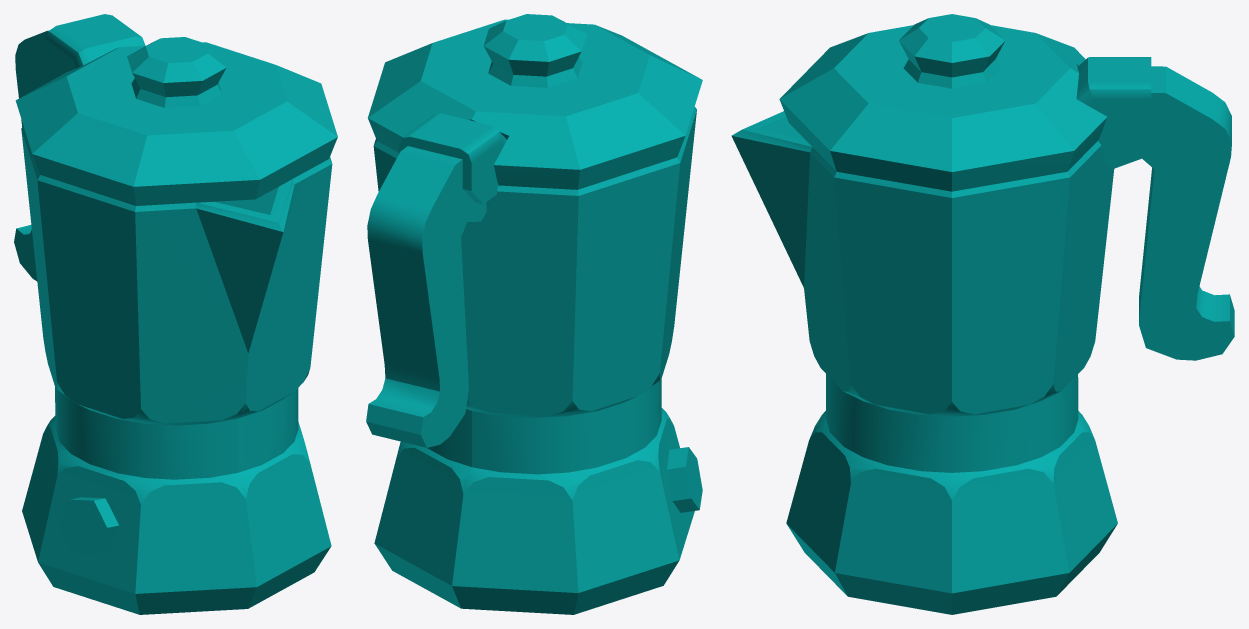
File: obj_rewards_coffepot.fbx
3 views of the same model, side by side, from view 1: azimuth 30°, elevation 25°; view 2: azimuth 150°, elevation 25°; view 3: azimuth 270°, elevation 25° (orthographic). The views are drawn at different scales.
Visible parts, largest first — view 1: del2_lp.001, del3_lp.001, del3_lp.002, del4_lp.001; view 2: del2_lp.001, del4_lp.001, del3_lp.001, del3_lp.002; view 3: del2_lp.001, del4_lp.001, del3_lp.002, del3_lp.001.
Boxes of the visible parts, box(x1,y1,x2,y2) form: del2_lp.001: box(15, 42, 337, 614); del3_lp.001: box(45, 14, 145, 553); del3_lp.002: box(127, 37, 226, 107); del4_lp.001: box(14, 30, 50, 281); del2_lp.001: box(368, 19, 702, 614); del4_lp.001: box(366, 146, 486, 447); del3_lp.001: box(398, 113, 702, 512); del3_lp.002: box(483, 14, 586, 87); del2_lp.001: box(731, 25, 1117, 614); del4_lp.001: box(1103, 66, 1234, 360); del3_lp.002: box(899, 14, 1005, 88); del3_lp.001: box(1076, 57, 1151, 148).
Size of the model in its own units: 1.19 by 2 by 1.74.
